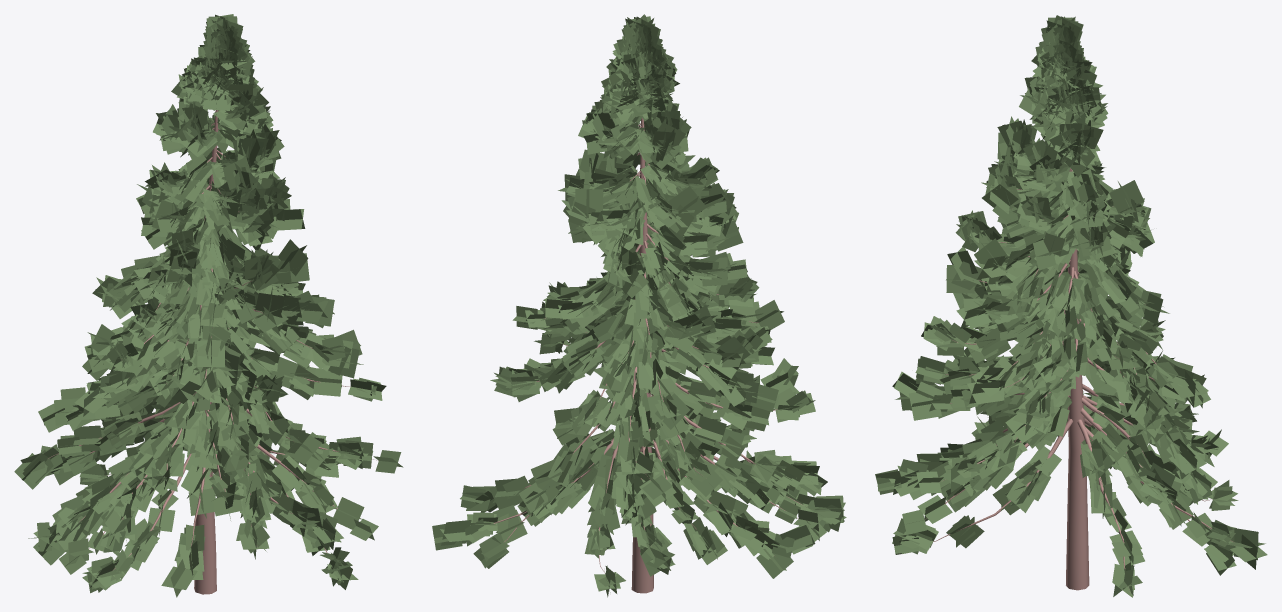
Rendered from redwood_a.glb.
The picture shows the model from 3 angles, left to right: view 1: azimuth 30°, elevation 25°; view 2: azimuth 150°, elevation 25°; view 3: azimuth 270°, elevation 25°; orthographic projection. The views are drawn at different scales.
Visible parts, largest first — view 1: leaves, branches; view 2: leaves, branches; view 3: leaves, branches.
Part boxes in pixels (x1,y1,x2,y2): leaves: [14, 14, 403, 597]; branches: [48, 110, 376, 594]; leaves: [432, 14, 846, 597]; branches: [493, 118, 801, 593]; leaves: [875, 15, 1267, 597]; branches: [925, 147, 1233, 590].
Size of the model in its own units: 41.86 by 68.54 by 42.48.
